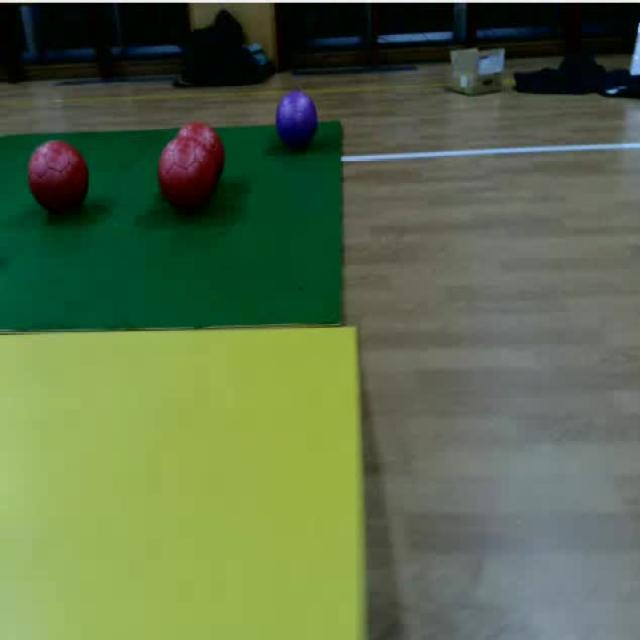purple_ball: (275, 89, 318, 156)
red_ball: (30, 140, 90, 218), (157, 136, 210, 214), (176, 117, 226, 185)
